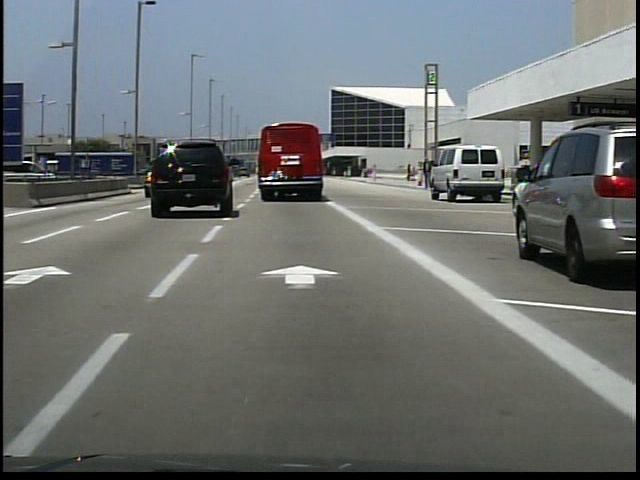person: (422, 158, 433, 194)
